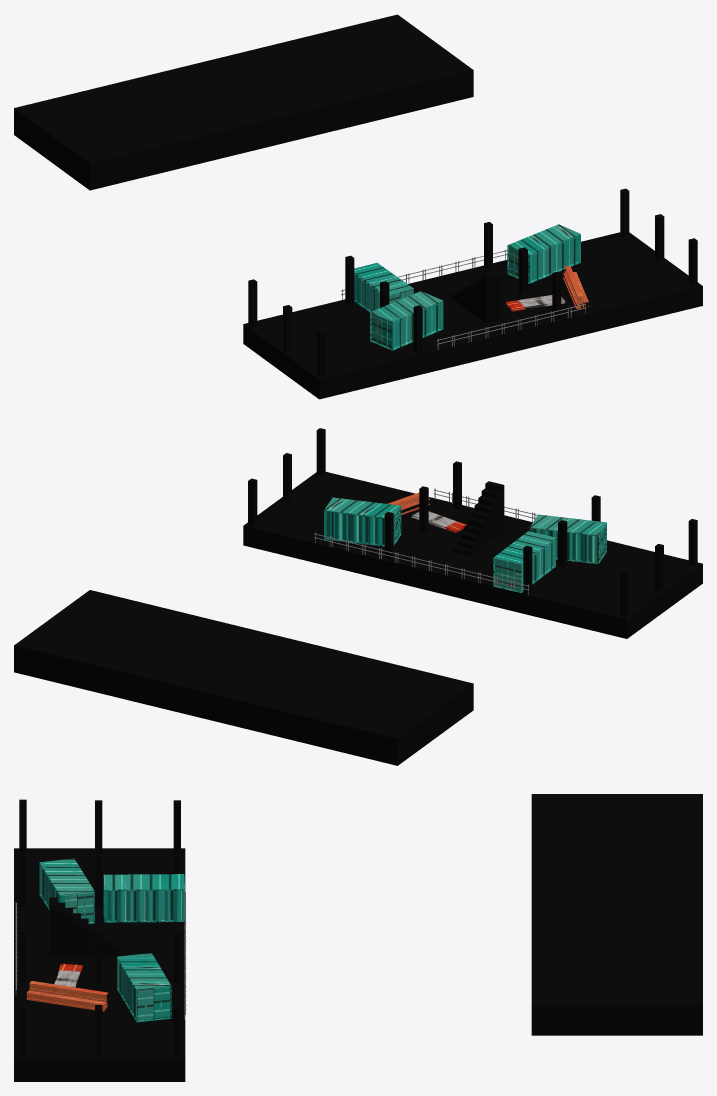
The model's file is billdodai.obj.
3 views of the same model, one above another, from view 1: azimuth 30°, elevation 25°; view 2: azimuth 150°, elevation 25°; view 3: azimuth 270°, elevation 25° (orthographic). The views are drawn at different scales.
Bounding box in the file's own units: 69.6 × 11.77 × 95.92.
Materials: 6 (3 with a texture image).
